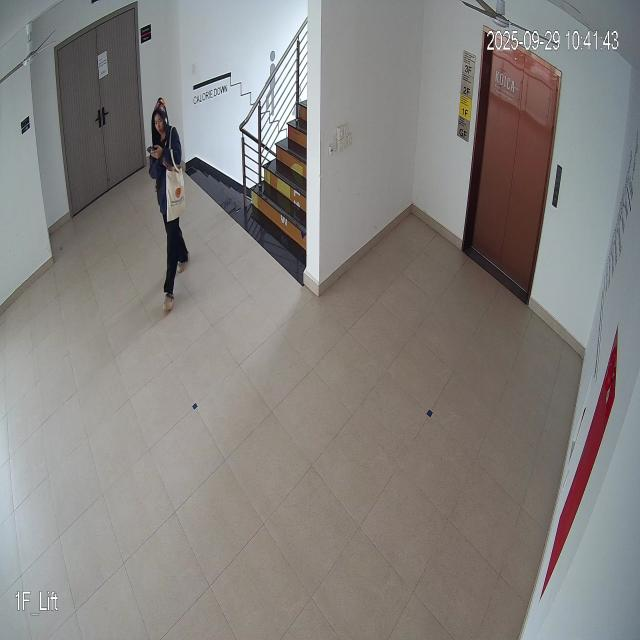face: (152, 104, 169, 142)
